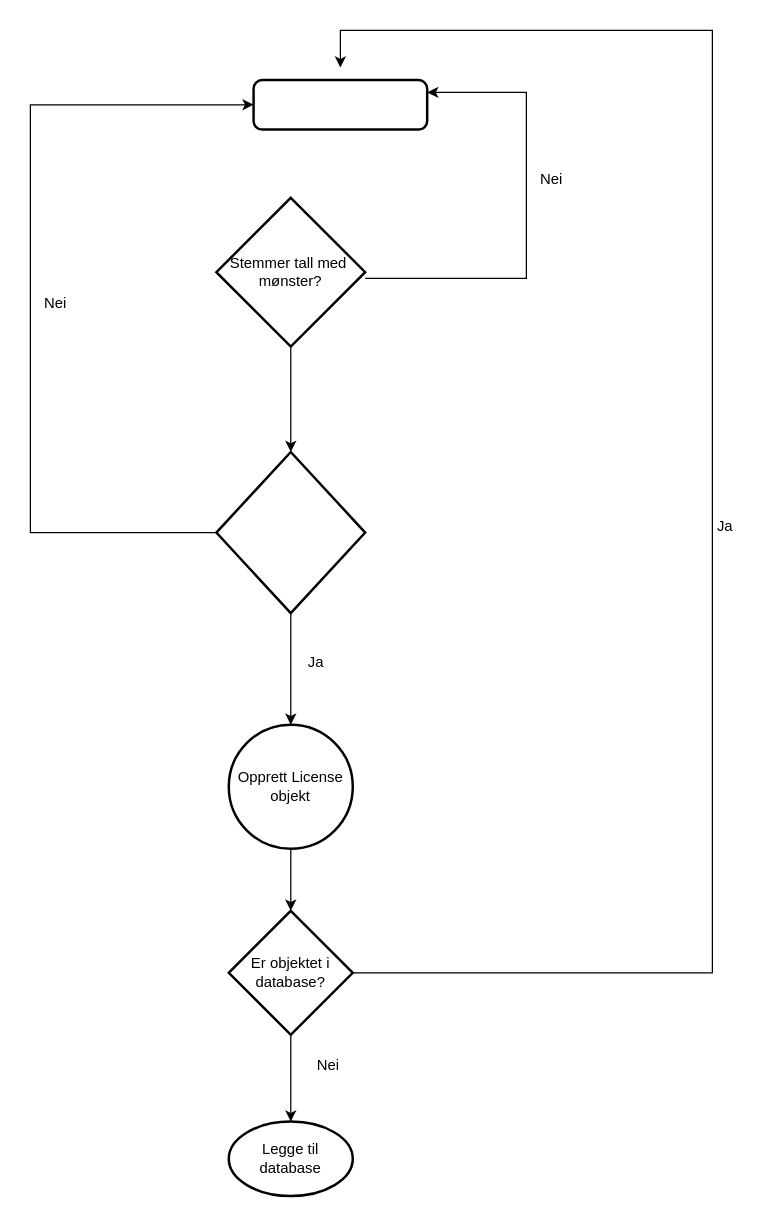
The diagram is 771 pixels wide and 1219 high, and some of its shapes have lost their labels. The shapes that lost their labels are listed below. From the top down, each one's centre as x and y in pixels, then its label:
At (x=340, y=104): "legg til førerkortinformasjon".
At (x=290, y=532): "Gyldig utstedelsesdato".
